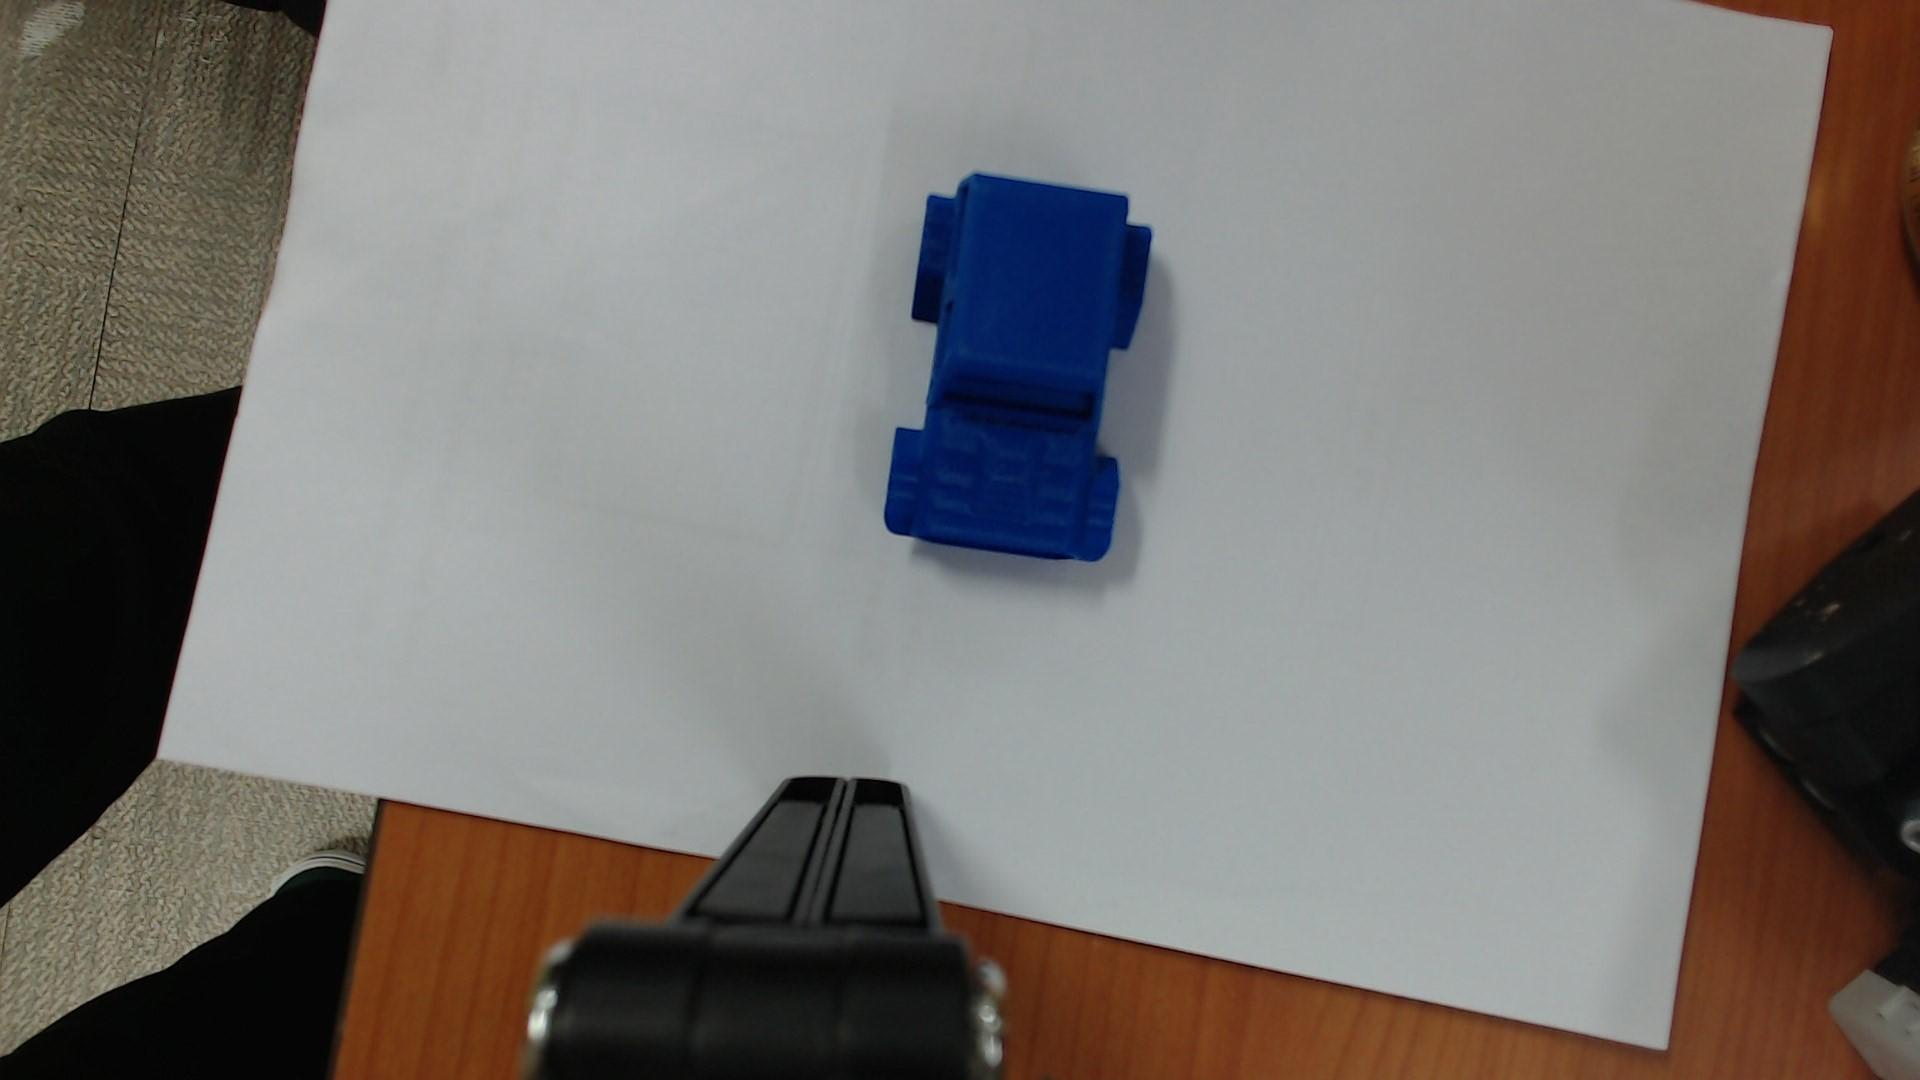Upper_ng: (884, 173, 1151, 560)
